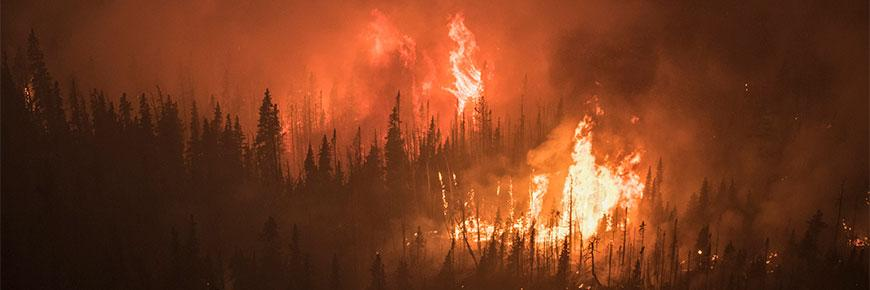Fire: (512, 96, 654, 246), (371, 10, 489, 119)
